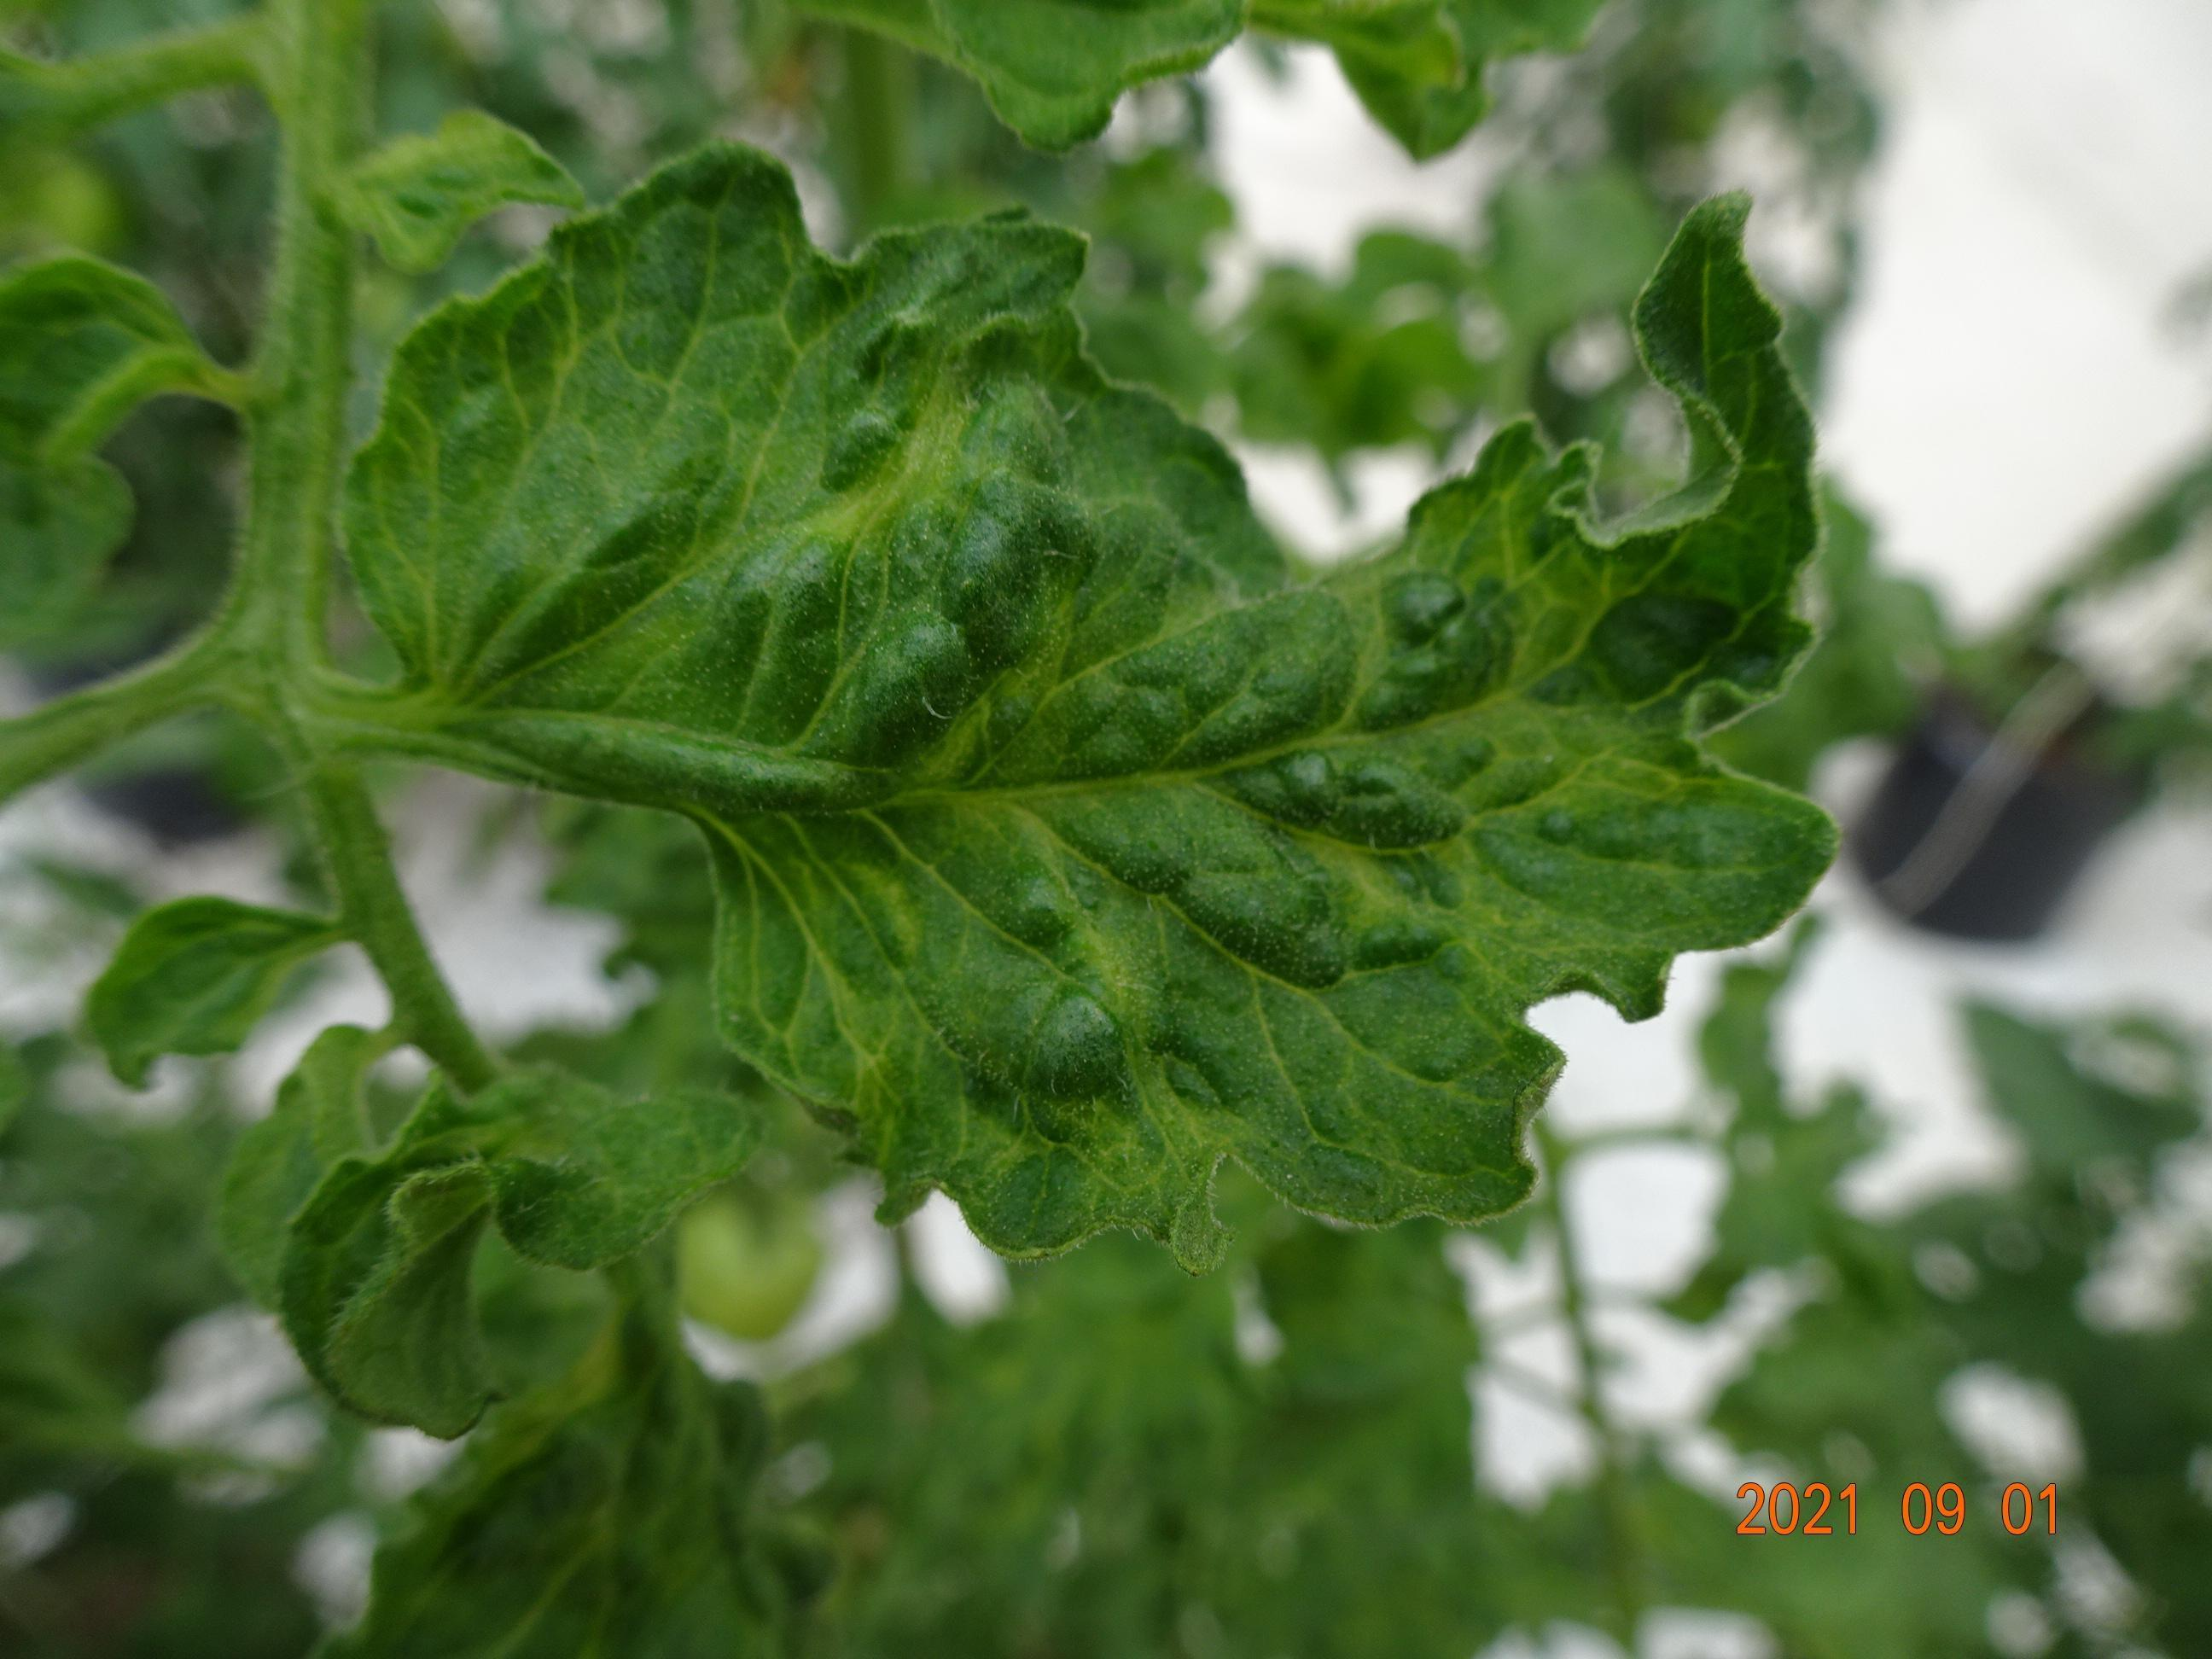Hoja rugoso: (350, 152, 1843, 1258)
